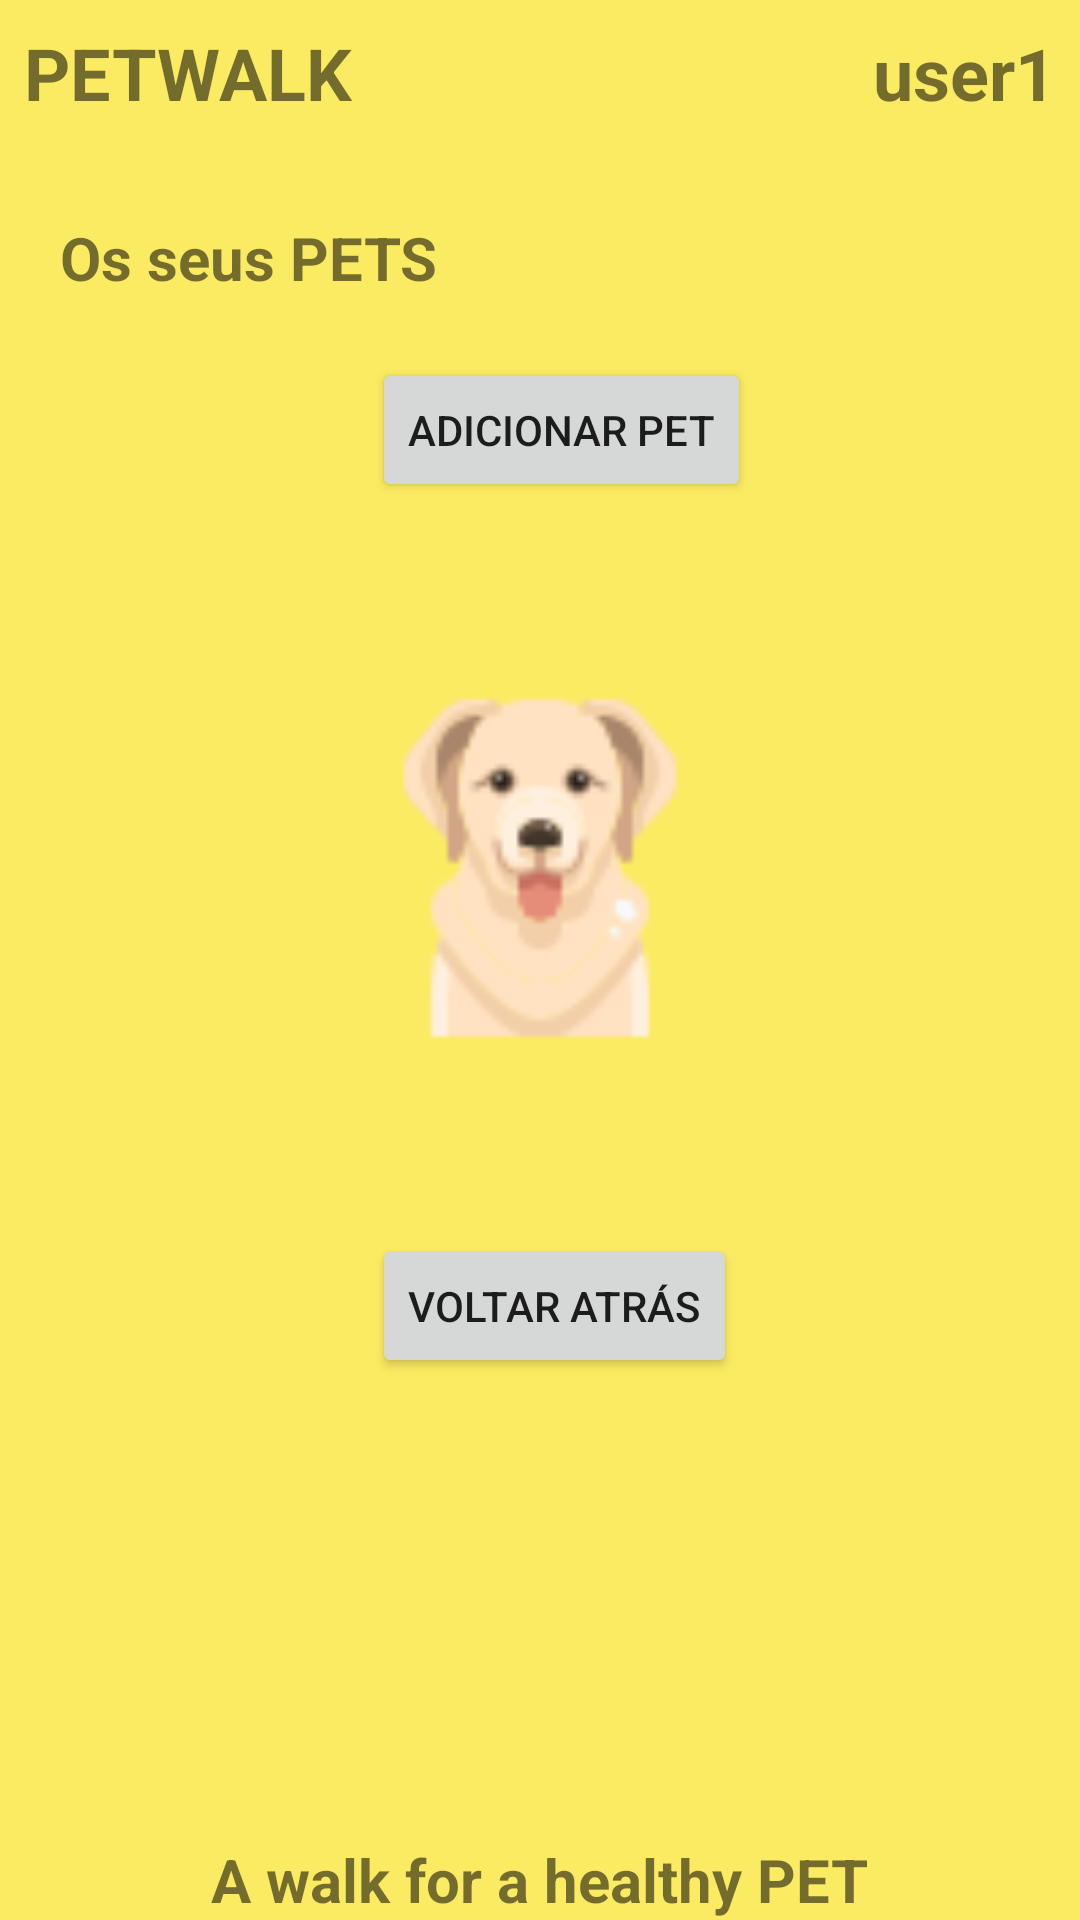

Icons on this 1080*1920 Android screen, each with the point to tap as (x=x, y=y):
dog: (x=540, y=868)
